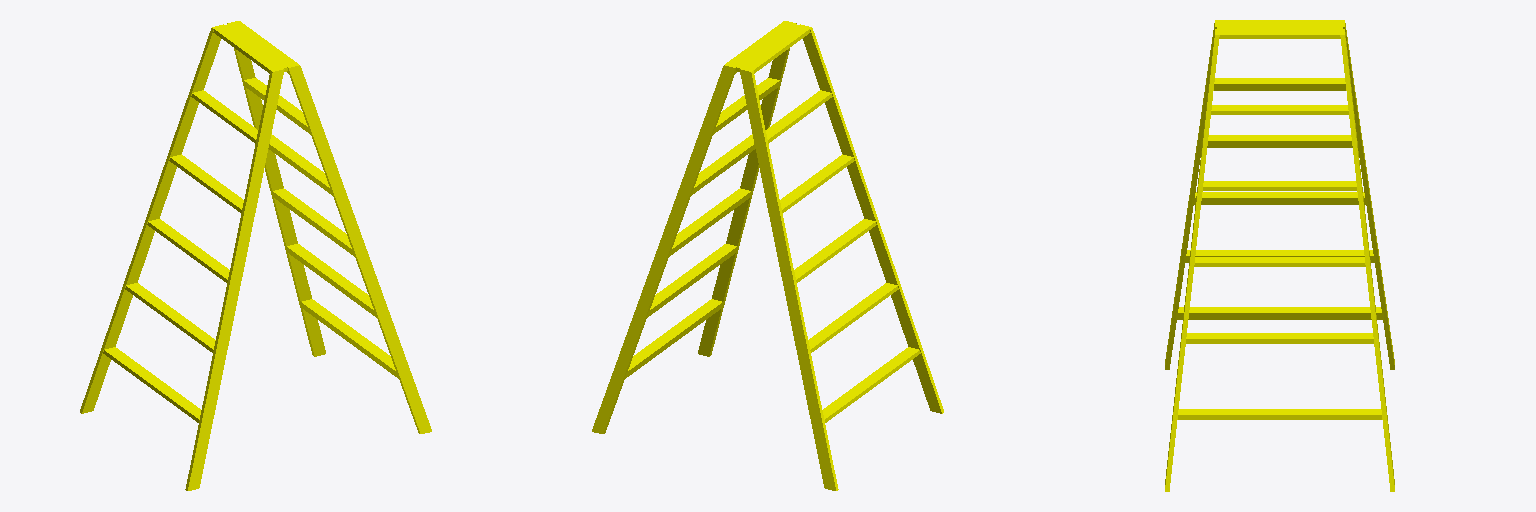
URDF robot description (picaladder):
<?xml version="1.0"?>
<robot name="picaladder"
       xmlns:xi="http://www.w3.org/2001/XInclude"
       xmlns:gazebo="http://playerstage.sourceforge.net/gazebo/xmlschema/#gz"
       xmlns:model="http://playerstage.sourceforge.net/gazebo/xmlschema/#model"
       xmlns:sensor="http://playerstage.sourceforge.net/gazebo/xmlschema/#sensor"
       xmlns:body="http://playerstage.sourceforge.net/gazebo/xmlschema/#body"
       xmlns:geom="http://playerstage.sourceforge.net/gazebo/xmlschema/#geom"
       xmlns:joint="http://playerstage.sourceforge.net/gazebo/xmlschema/#joint"
       xmlns:interface="http://playerstage.sourceforge.net/gazebo/xmlschema/#interface"
       xmlns:rendering="http://playerstage.sourceforge.net/gazebo/xmlschema/#rendering"
       xmlns:renderable="http://playerstage.sourceforge.net/gazebo/xmlschema/#renderable"
       xmlns:controller="http://playerstage.sourceforge.net/gazebo/xmlschema/#controller"
       xmlns:physics="http://playerstage.sourceforge.net/gazebo/xmlschema/#physics">
  <gazebo>
    <static>false</static>
  </gazebo>
  <link name="nil_link">
    <visual>
      <origin xyz="0 0 0" rpy="0 -0 0"/>
      <geometry>
        <mesh filename="model://picaladder/meshes/nil_link_mesh.dae" scale="1 1 1" />
      </geometry>
    </visual>
    <collision>
      <origin xyz="0 0 0" rpy="0 -0 0"/>
      <geometry>
        <mesh filename="model://picaladder/meshes/nil_link_mesh.dae" scale="1 1 1" />
      </geometry>
    </collision>
    <inertial>
      <mass value="14.3" />
      <origin xyz="0 0 0" rpy="0 -0 0"/>
      <inertia ixx="1e-09" ixy="0" ixz="0" iyy="1e-09" iyz="0" izz="1e-09"/>
    </inertial>
  </link>
  <gazebo reference="nil_link">
    <mu1>0.9</mu1>
    <mu2>0.9</mu2>
  </gazebo>
</robot>

--- What the picture shows (computed from the rendered views, not written in the file) ---
The picture shows the robot from 3 angles, left to right: view 1: azimuth 30°, elevation 25°; view 2: azimuth 150°, elevation 25°; view 3: azimuth 270°, elevation 25°; orthographic projection.
Robot: picaladder — 1 links, 0 joints (none); root link nil_link; default pose: all joints at 0.
Visible links, largest first — view 1: nil_link; view 2: nil_link; view 3: nil_link.
Boxes of the visible links, left/top/right/bottom form: nil_link: left=80, top=21, right=431, bottom=490; nil_link: left=592, top=21, right=943, bottom=490; nil_link: left=1165, top=20, right=1394, bottom=491.
Bounding box of the posed robot: 1.24 × 0.952 × 1.82 m (x, y, z).
1 mesh visuals loaded from 1 distinct referenced files (1 Collada DAE).
